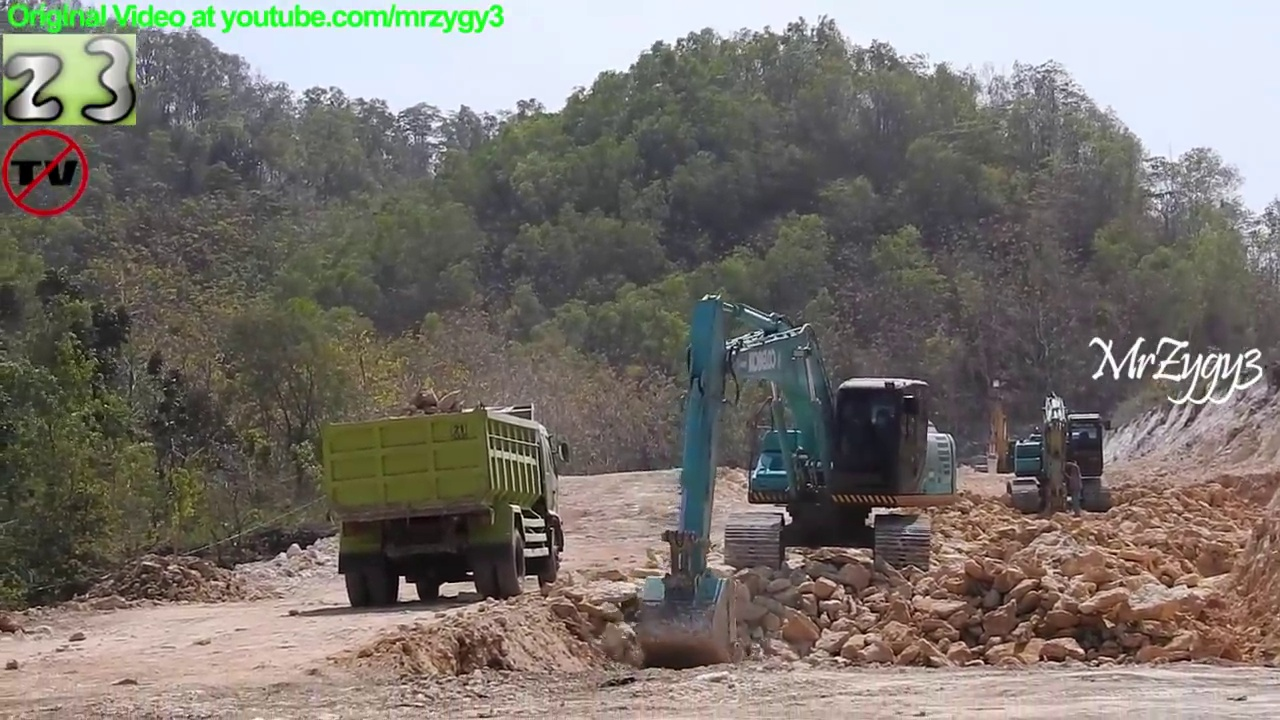excavator: (630, 289, 960, 675), (968, 375, 1043, 485)
excavator breaker: (1005, 388, 1119, 523)
truck: (315, 400, 574, 607)
worker: (1055, 452, 1091, 520)
